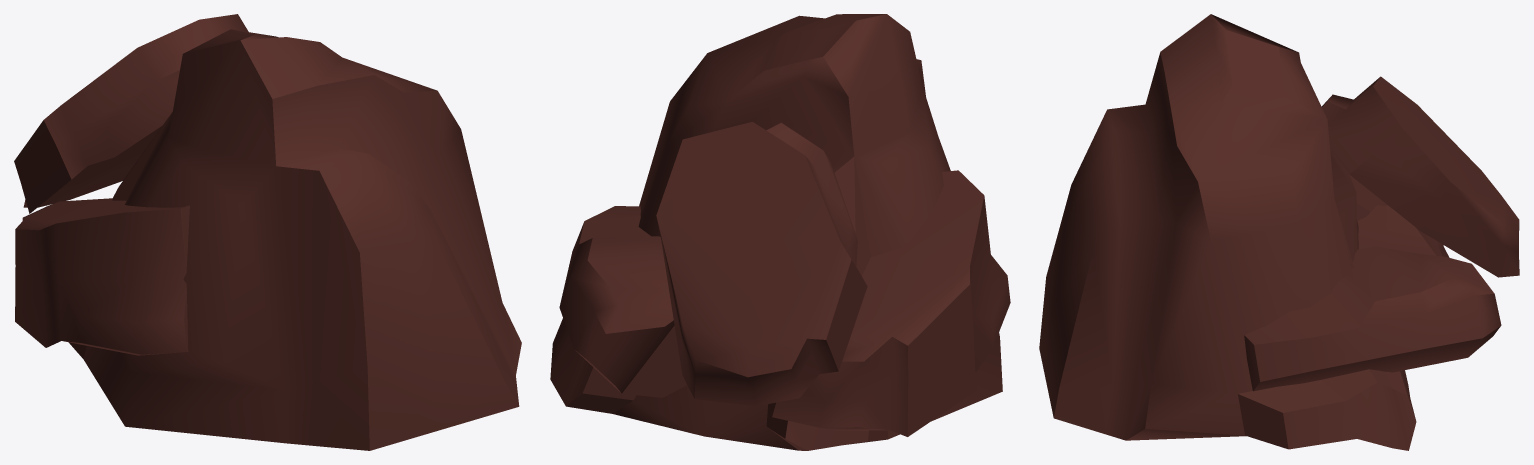
Rendered from SM_rock_complex_G.fbx.
The picture shows the model from 3 angles, left to right: view 1: azimuth 30°, elevation 25°; view 2: azimuth 150°, elevation 25°; view 3: azimuth 270°, elevation 25°; orthographic projection. The views are drawn at different scales.
Visible parts, largest first — view 1: polySurface17; view 2: polySurface17; view 3: polySurface17.
Boxes of the visible parts, x1,y1,x2,y2 form: polySurface17: [14, 14, 521, 450]; polySurface17: [550, 14, 1010, 450]; polySurface17: [1039, 14, 1519, 450].
Size of the model in its own units: 917 by 768 by 983.
